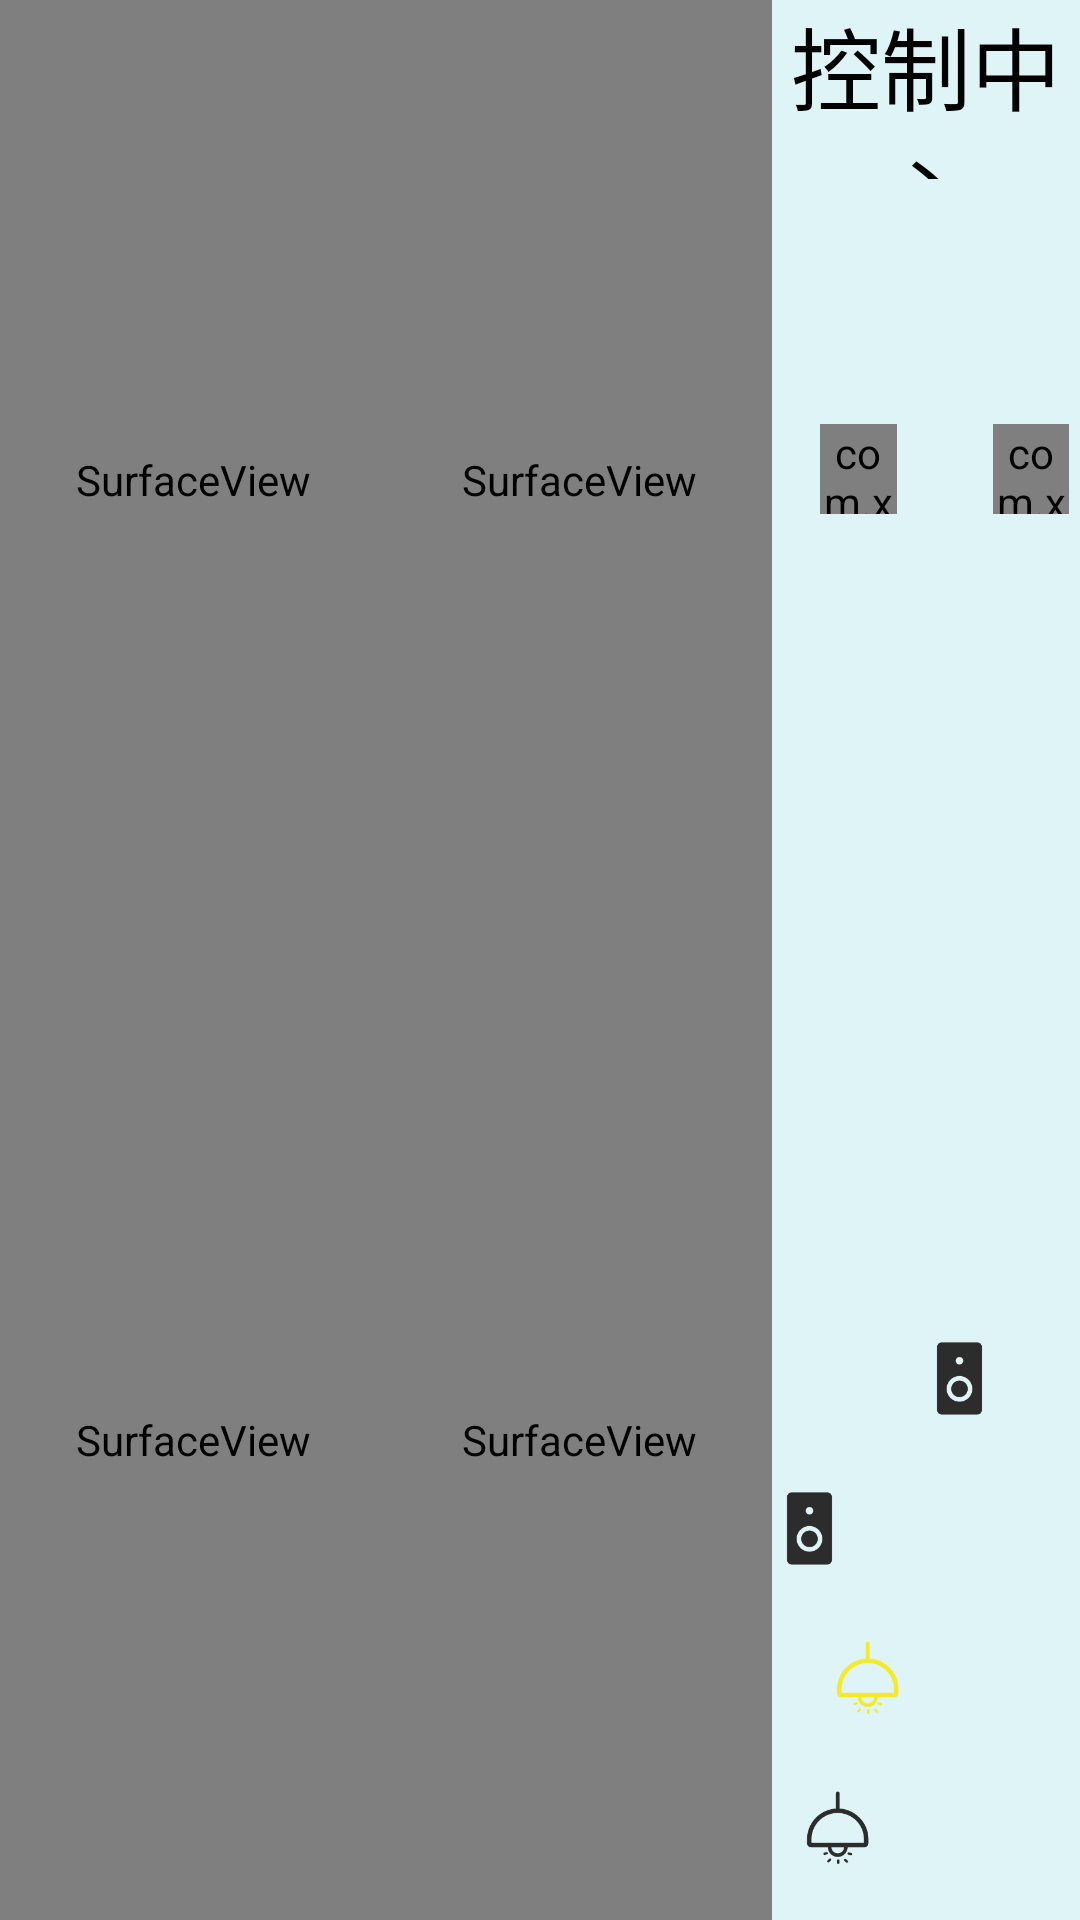

Icon click points for this 1080w x 1920h phone screenshot, format (x,y):
audio: (959,1378), (809,1528)
lamp: (838,1827)
lamp open: (868,1677)
